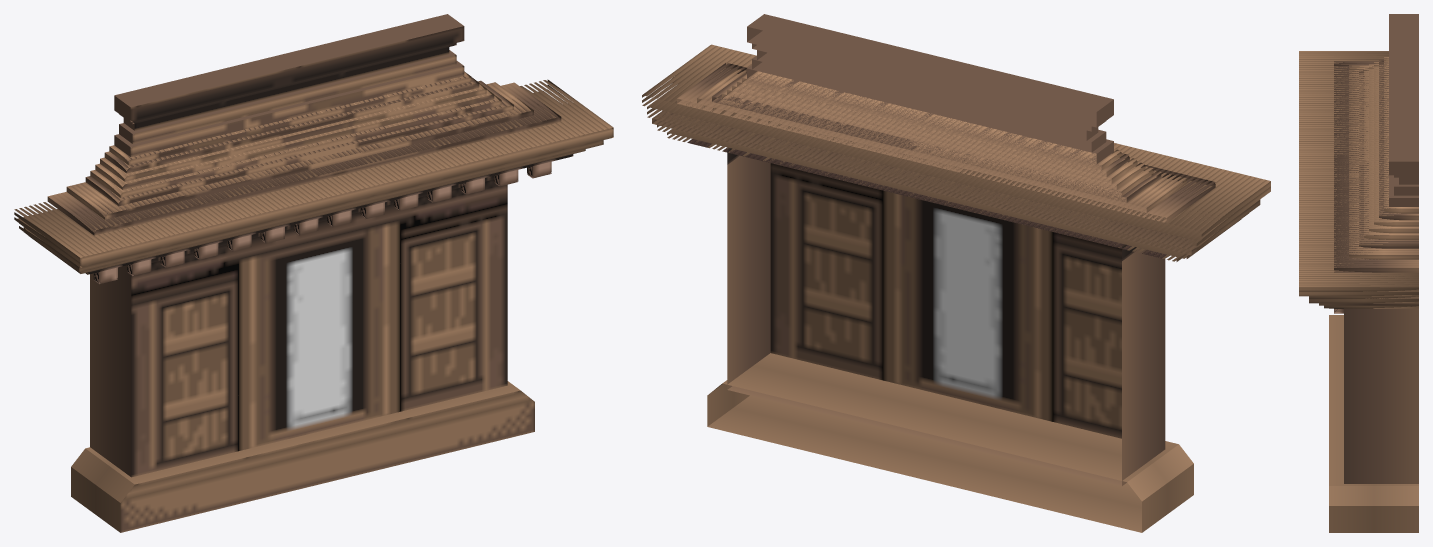
The model's file is shrine.obj.
3 renders of one model, left to right at view 1: azimuth 30°, elevation 25°; view 2: azimuth 150°, elevation 25°; view 3: azimuth 270°, elevation 25°, orthographic. The views are drawn at different scales.
Visible parts, largest first — view 1: Default; view 2: Default; view 3: Default.
Part boxes in pixels (box(x1,y1,x2,y2)): Default: box(14, 14, 613, 532); Default: box(642, 14, 1270, 532); Default: box(1299, 14, 1418, 532).
Bounding box in the file's own units: 7 × 4.9 × 1.5.
Materials: 1 (1 with a texture image).
